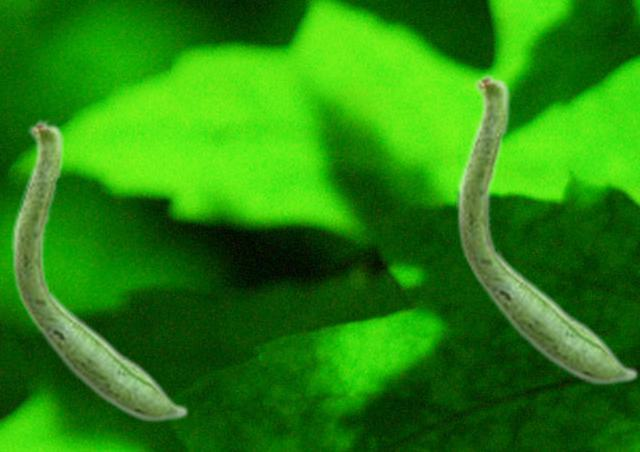french_bean: (456, 71, 638, 385), (11, 117, 188, 422)
